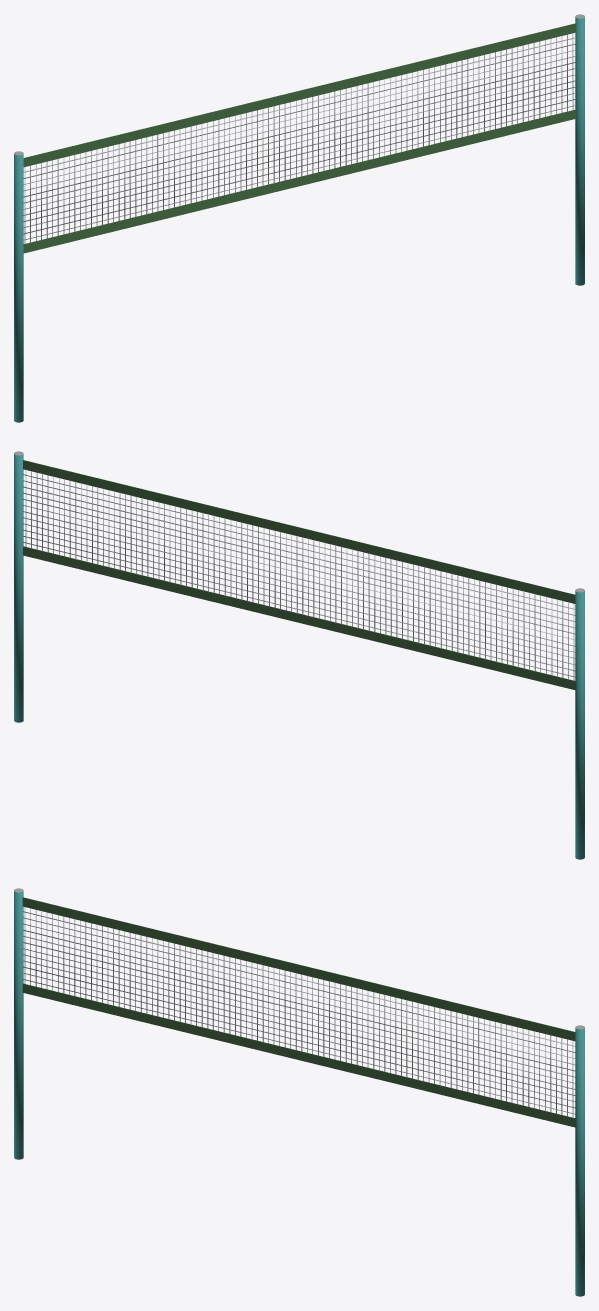
The model's file is volley ball net ok.fbx.
3 renders of one model, top to bottom at view 1: azimuth 30°, elevation 25°; view 2: azimuth 150°, elevation 25°; view 3: azimuth 330°, elevation 25°, orthographic.
Visible parts, largest first — view 1: polySurface4586; view 2: polySurface4586; view 3: polySurface4586.
Boxes of the visible parts, box(x1,y1,x2,y2) form: polySurface4586: box(14, 14, 584, 422); polySurface4586: box(14, 451, 584, 859); polySurface4586: box(14, 888, 584, 1296).
Size of the model in its own units: 33.68 by 15.09 by 0.4994.
